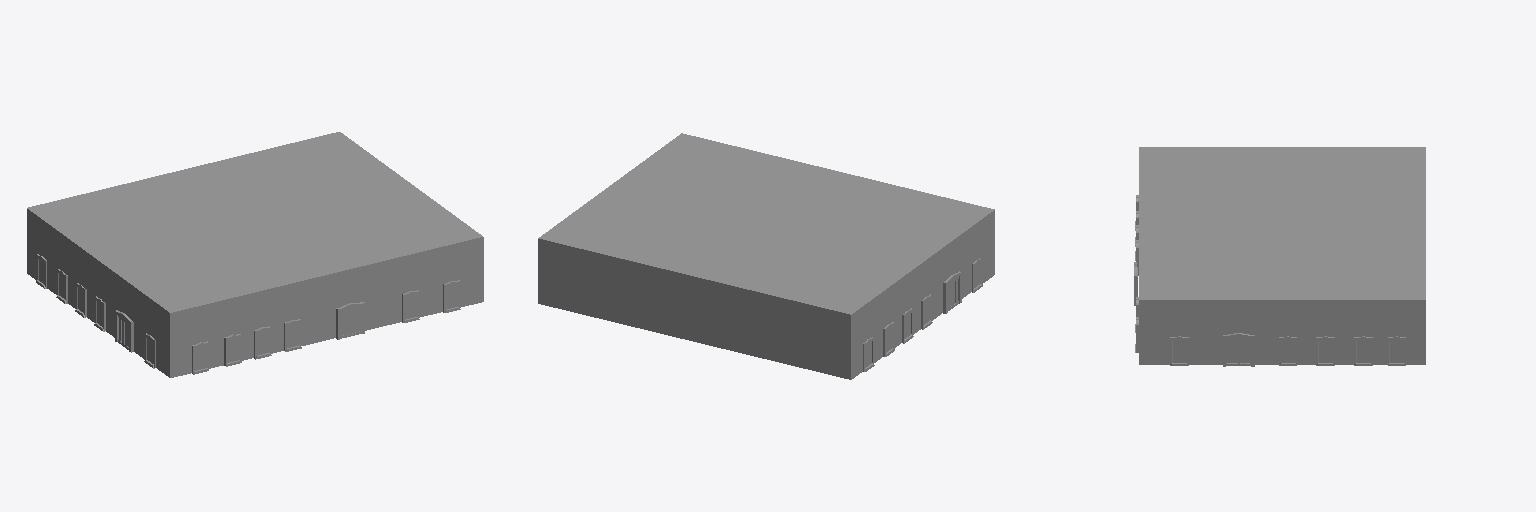
File: edificioG.obj
The picture shows the model from 3 angles: view 1: azimuth 30°, elevation 25°; view 2: azimuth 150°, elevation 25°; view 3: azimuth 270°, elevation 25°; orthographic projection.
Visible parts, largest first — view 1: Cubo; view 2: Cubo; view 3: Cubo.
Boxes of the visible parts, <box> form: Cubo: <box>27,132,483,377</box>; Cubo: <box>538,133,994,379</box>; Cubo: <box>1134,147,1425,366</box>.
Size of the model in its own units: 15.05 by 2.96 by 11.94.